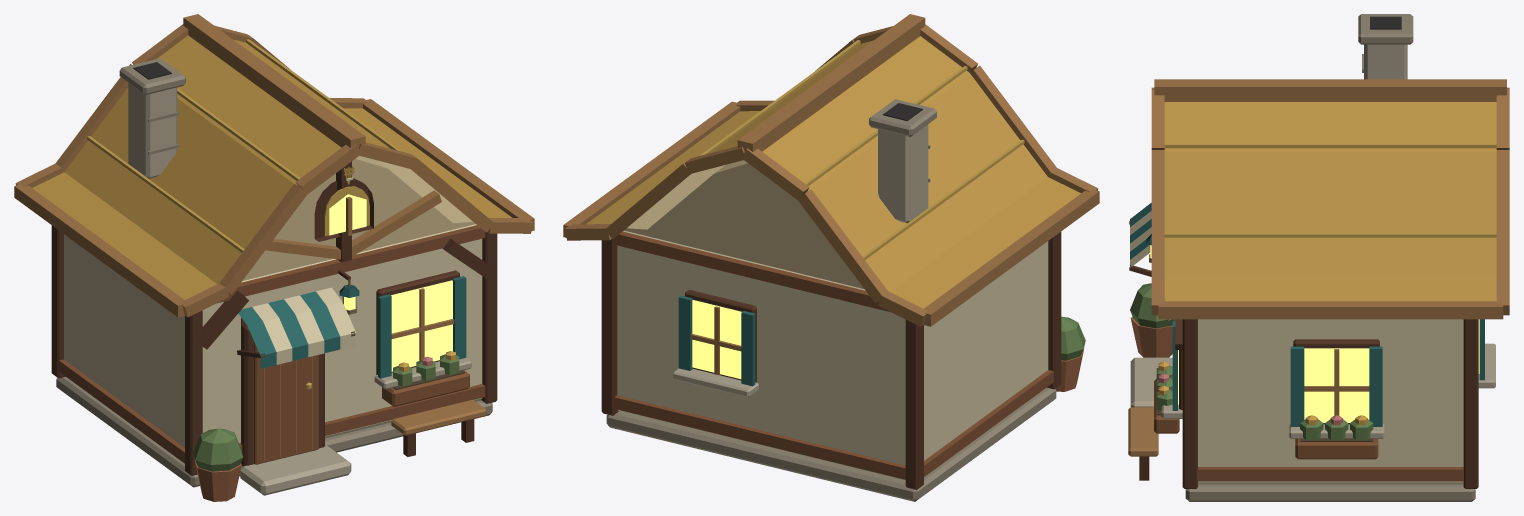
The model's file is house-a.glb.
3 views of the same model, side by side, from view 1: azimuth 30°, elevation 25°; view 2: azimuth 150°, elevation 25°; view 3: azimuth 270°, elevation 25° (orthographic). The views are drawn at different scales.
Visible parts, largest first — view 1: house-a; view 2: house-a; view 3: house-a.
Boxes of the visible parts, x1,y1,x2,y2 form: house-a: (14,14,534,501); house-a: (563,14,1099,501); house-a: (1128,14,1509,501).
Size of the model in its own units: 5.75 by 5.18 by 5.05.
